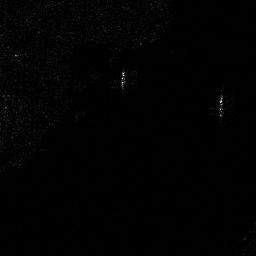ship: (215, 93, 224, 118), (118, 68, 127, 88)
